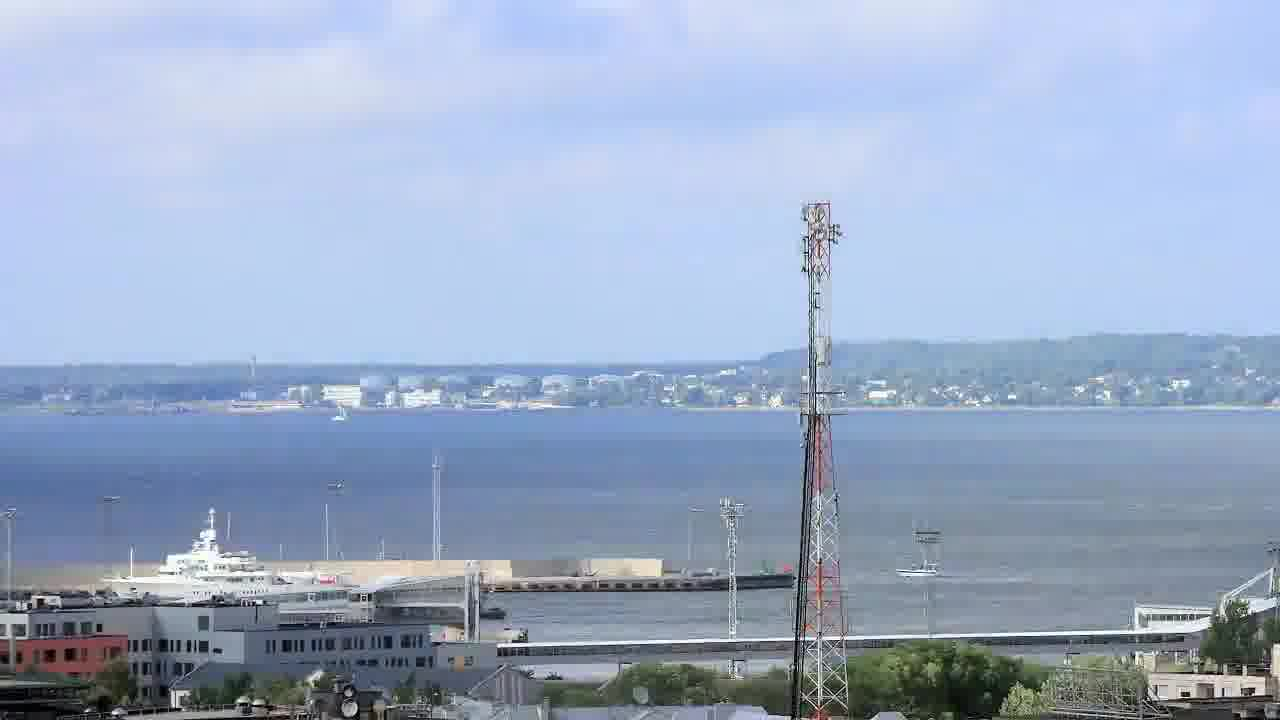type-1: (882, 543, 955, 584)
type-3: (77, 505, 365, 608)
